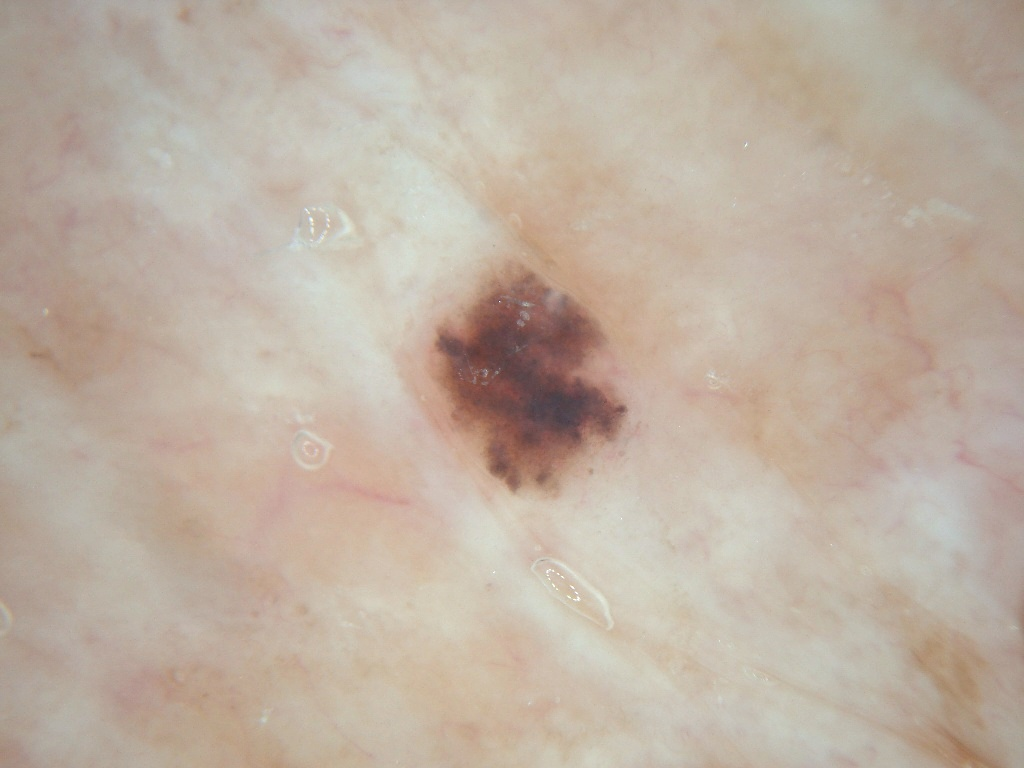Detected Lesion: (417, 267, 634, 505)
